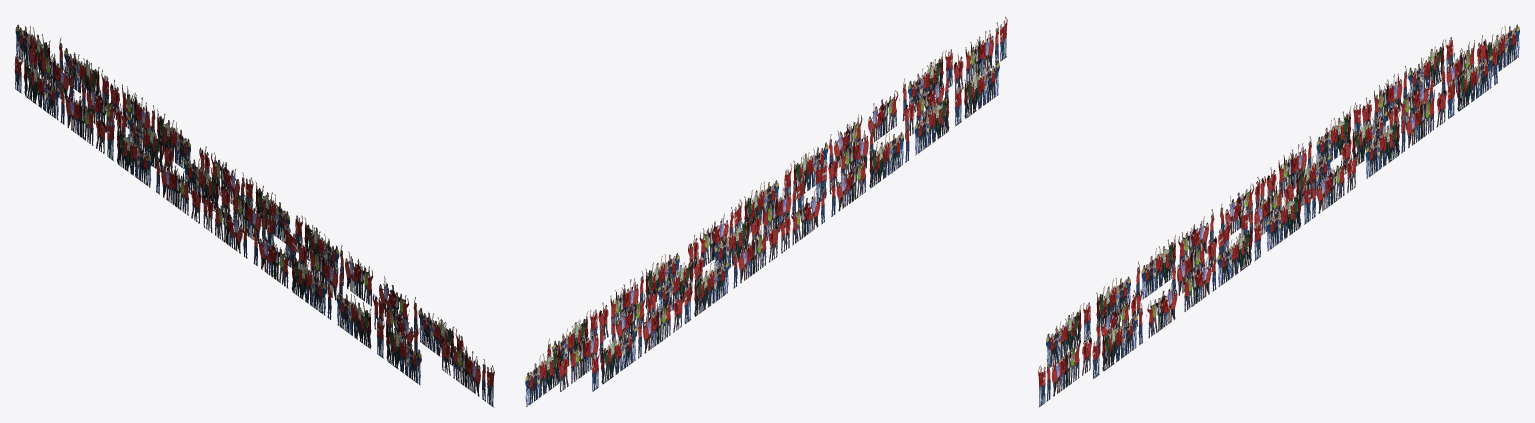
File: st_011_people.fbx
3 renders of one model, left to right at view 1: azimuth 30°, elevation 25°; view 2: azimuth 150°, elevation 25°; view 3: azimuth 330°, elevation 25°, orthographic.
Visible parts, largest first — view 1: st_011_People; view 2: st_011_People; view 3: st_011_People.
Part boxes in pixels (x1,y1,x2,y2): st_011_People: [14, 24, 494, 407]; st_011_People: [525, 16, 1007, 407]; st_011_People: [1037, 24, 1519, 407].
Bounding box in the file's own units: 2.45 × 2.21 × 46.1.
